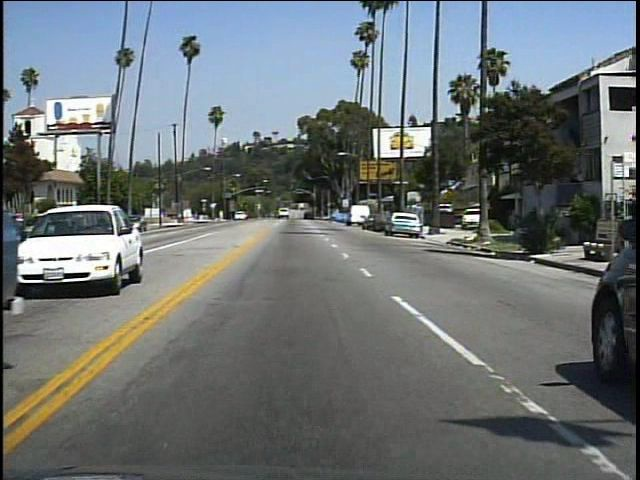person: (522, 198, 547, 252)
